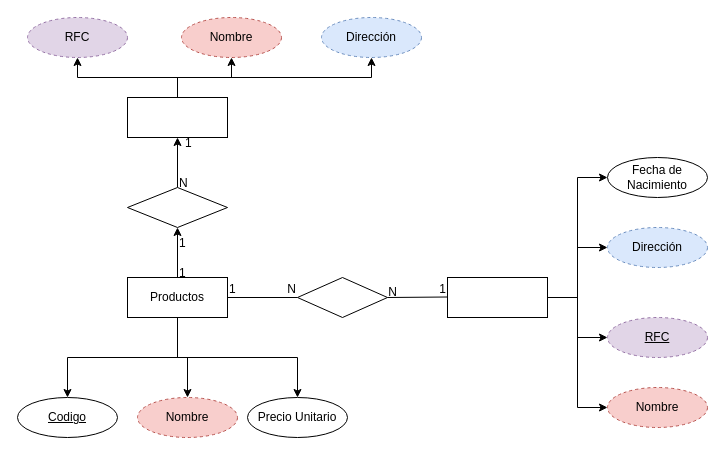
The diagram is 725 pixels wide and 455 high, and some of its shapes have lost their labels. The shapes that lost their labels are listed below. From the top down, each one's centre as x and y in pixels, then its label:
pixel 177 117: Provedores
pixel 177 207: Suministrar
pixel 342 297: Comprar
pixel 497 297: Clientes
